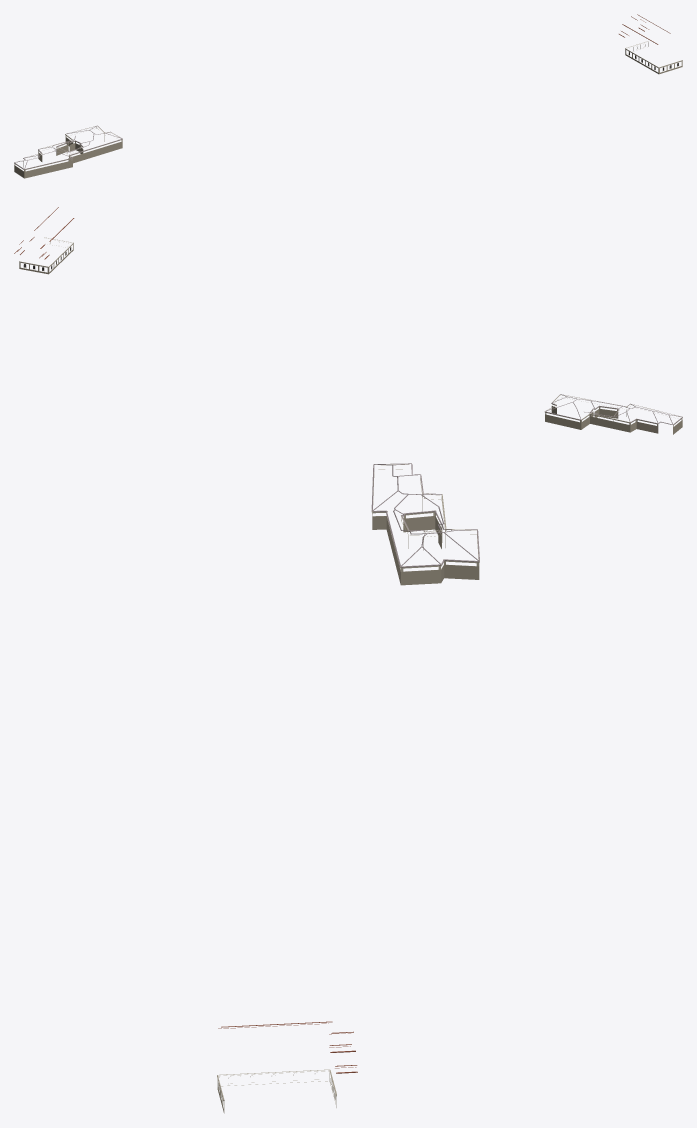
3 views of the same model, one above another, from view 1: azimuth 30°, elevation 25°; view 2: azimuth 150°, elevation 25°; view 3: azimuth 270°, elevation 25° (orthographic). The views are drawn at different scales.
Parts seen in each view (by area): view 1: detail; view 2: detail; view 3: detail.
Boxes of the visible parts, x1,y1,x2,y2 form: detail: (14, 14, 682, 178); detail: (14, 207, 682, 434); detail: (217, 463, 479, 1113).
Size of the model in its own units: 397 by 22.67 by 72.7.
